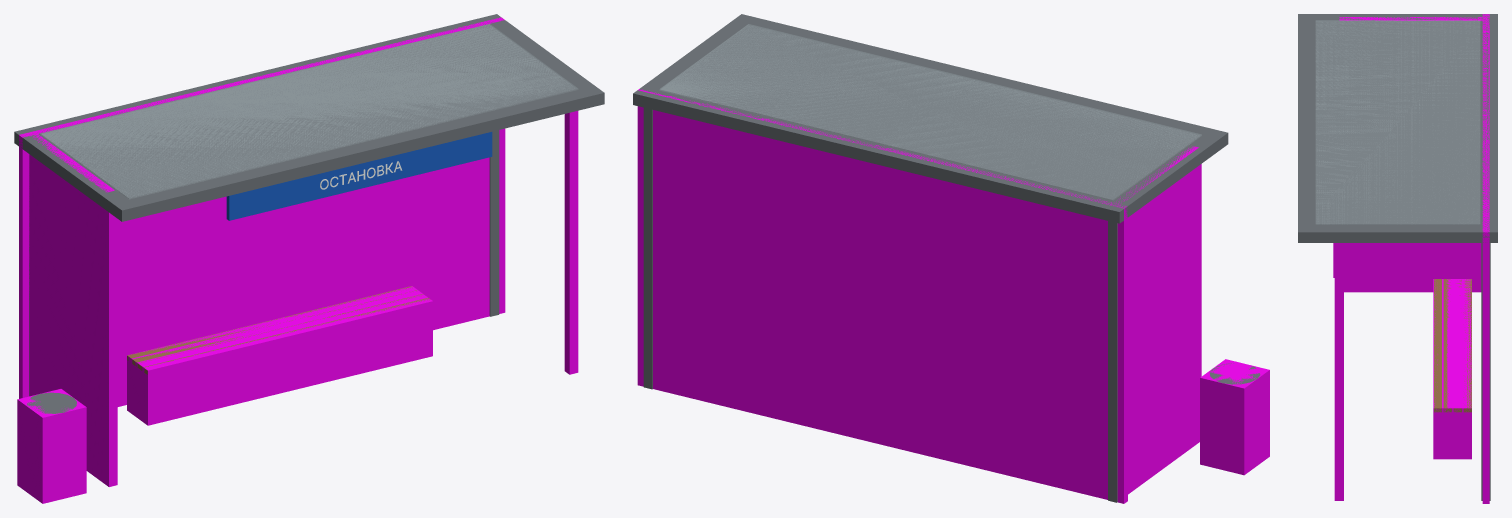
File: PT_BusStop_Shelter.fbx
3 renders of one model, left to right at view 1: azimuth 30°, elevation 25°; view 2: azimuth 150°, elevation 25°; view 3: azimuth 270°, elevation 25°, orthographic. The views are drawn at different scales.
Visible parts, largest first — view 1: COL_Shelter, Roof, Roof_Glass, NameBoard, COL_Bin, Bench_Seat, Frame, Bin; view 2: COL_Shelter, Roof, Roof_Glass, COL_Bin, Frame; view 3: Roof, Roof_Glass, COL_Shelter, Bench_Seat, Frame.
Part boxes in pixels (x1,y1,x2,y2): COL_Shelter: (19, 17, 578, 486); Roof: (14, 14, 604, 221); Roof_Glass: (40, 24, 578, 198); NameBoard: (226, 132, 492, 220); COL_Bin: (17, 389, 86, 503); Bench_Seat: (127, 286, 430, 374); Frame: (29, 130, 499, 396); Bin: (27, 392, 76, 413); COL_Shelter: (637, 89, 1201, 503); Roof: (633, 14, 1228, 223); Roof_Glass: (659, 24, 1201, 200); COL_Bin: (1200, 359, 1269, 475); Frame: (643, 107, 1117, 502); Roof: (1298, 14, 1497, 242); Roof_Glass: (1316, 20, 1479, 224); COL_Shelter: (1334, 14, 1489, 503); Bench_Seat: (1434, 279, 1471, 412); Frame: (1481, 243, 1490, 500).
Bounding box in the file's own units: 4.95 × 2.56 × 1.7.
